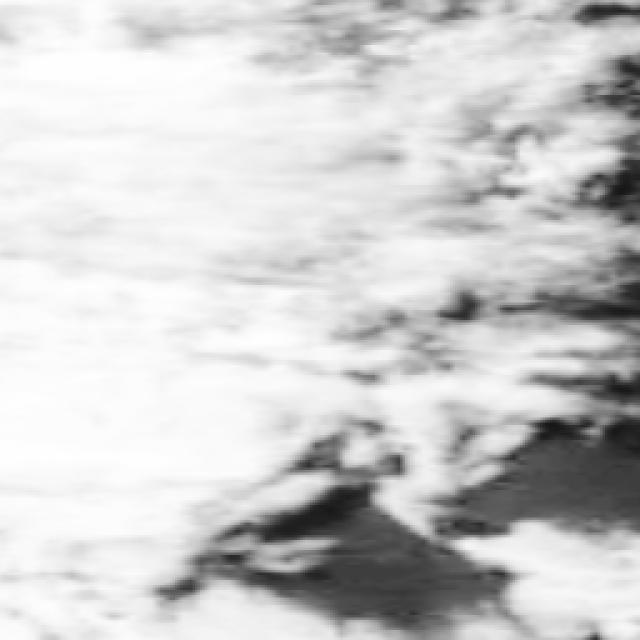CB: (0, 172, 185, 380), (120, 220, 316, 414), (164, 45, 336, 264), (0, 0, 171, 197), (0, 357, 183, 526), (330, 43, 470, 238)
